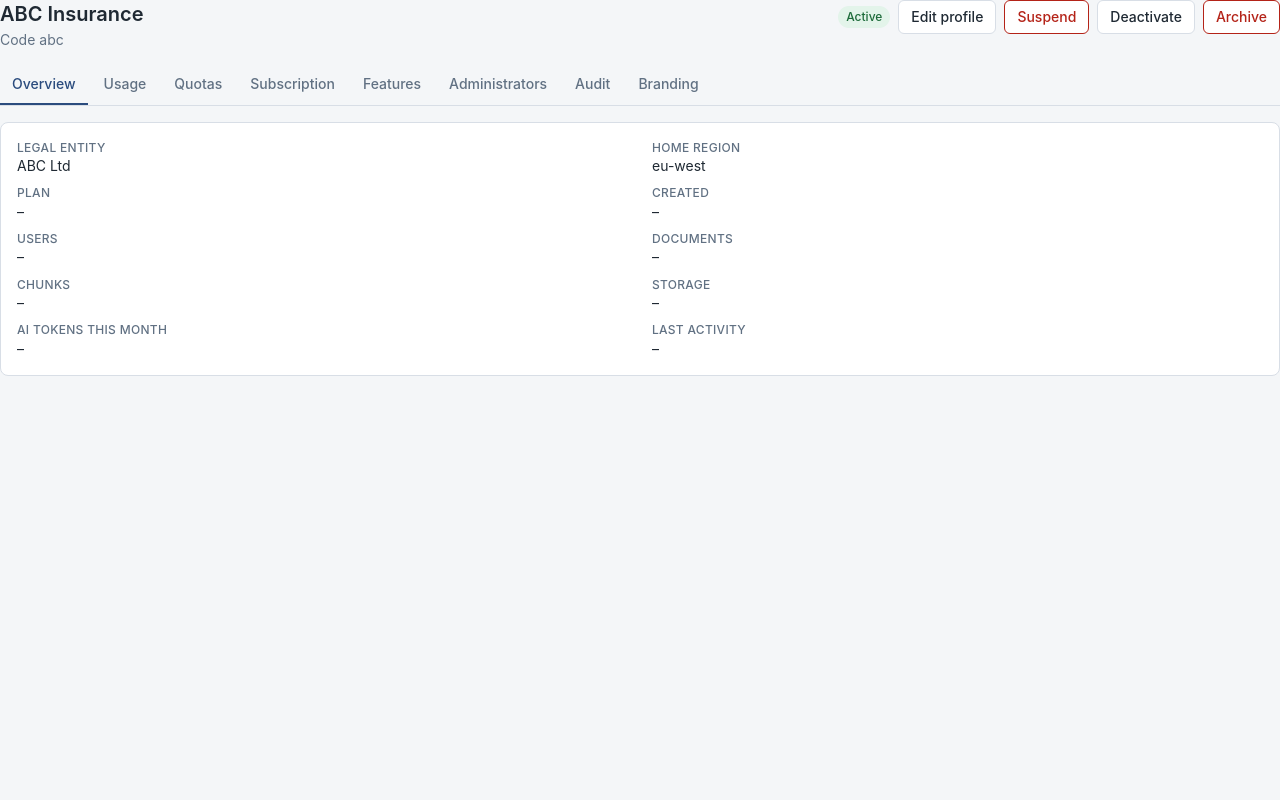
Test: platform tenant profile and usage › refuses a low-contrast accent colour and an http logo
The image size is (1280, 800).
Click the button "Edit profile" at (947, 17), box top-left (898, 0), bottom-right (996, 34)
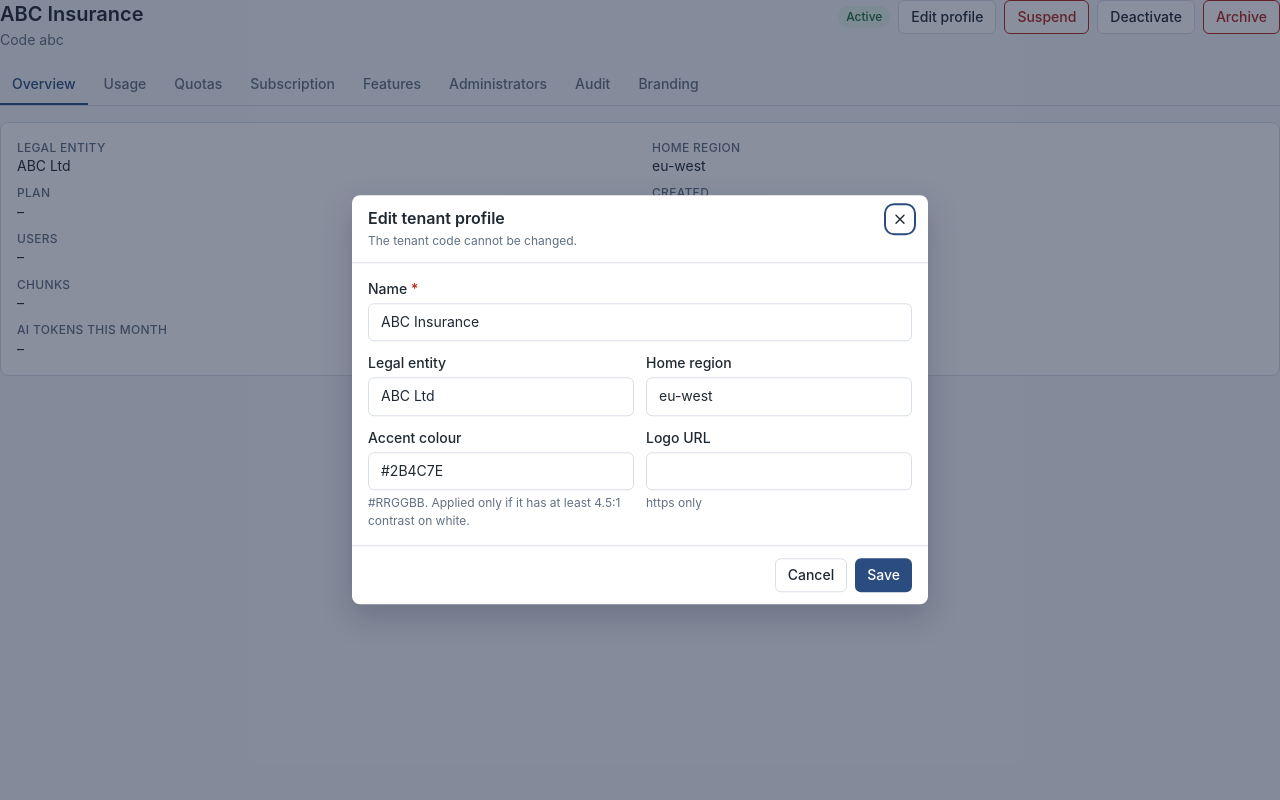
Type "#FFD54F" into the field labelled "Accent colour" at (501, 471), box top-left (368, 452), bottom-right (634, 491)
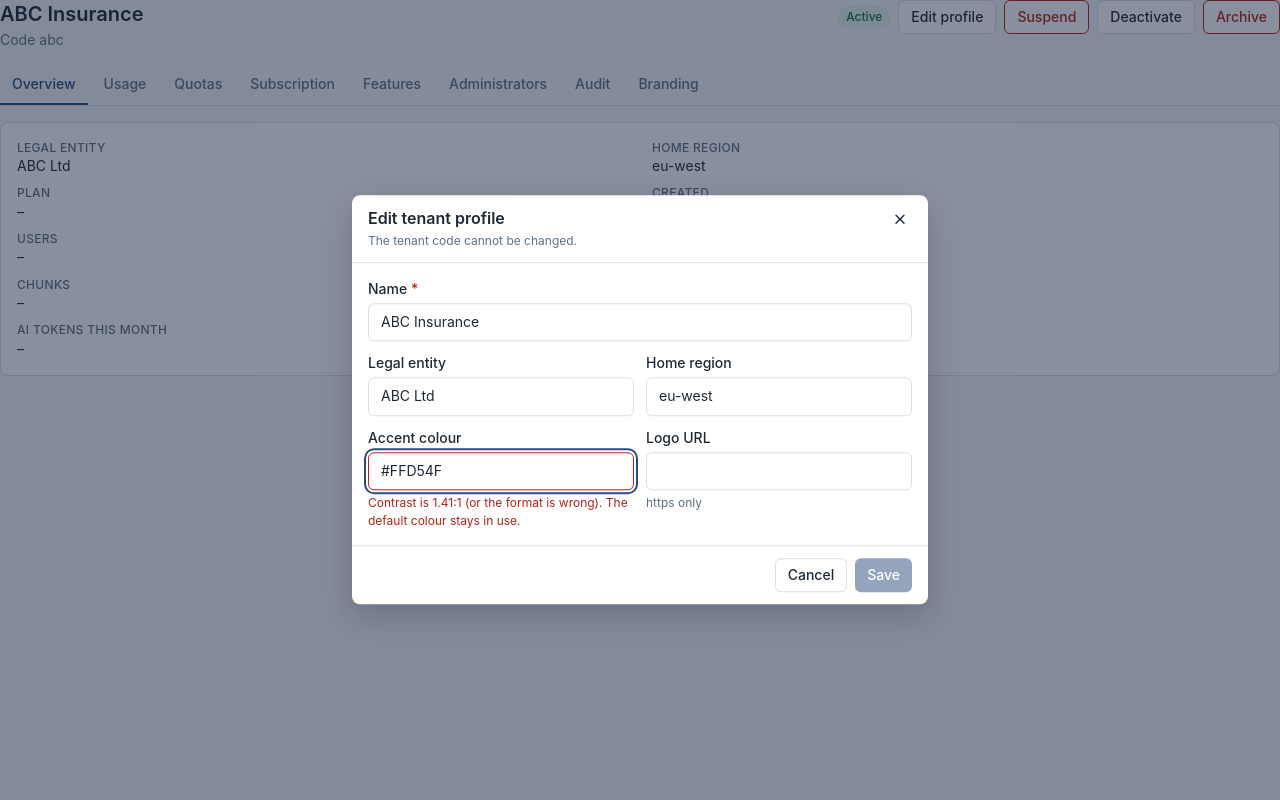
Expected: the text "Contrast is 1.41:1 (or the format is wrong). The default colour stays in use." is shown, top-left (368, 495), bottom-right (634, 529)
Type "http://x.test/logo.png" into the field labelled "Logo URL" at (779, 471), box top-left (646, 452), bottom-right (912, 491)
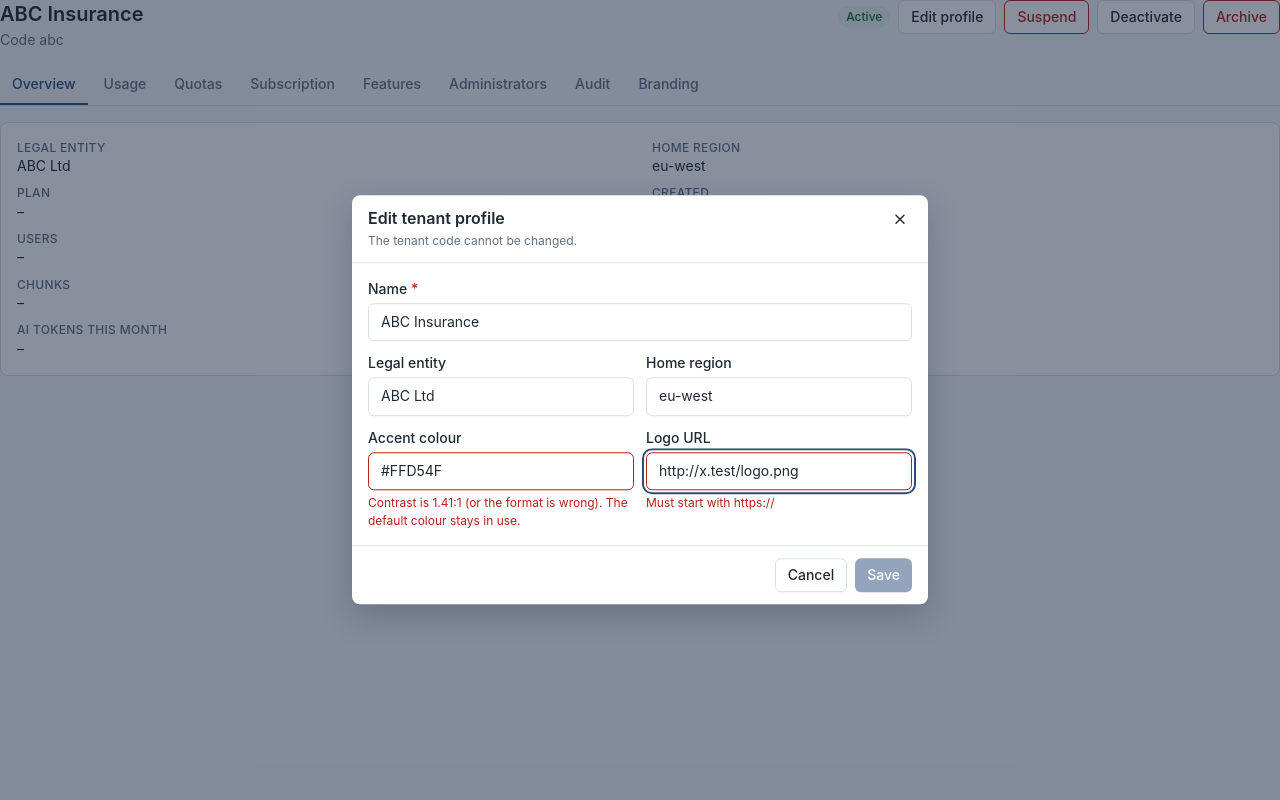
Expected: the button "Save" is disabled, top-left (855, 558), bottom-right (912, 593)
Expected: the text "Must start with https://" is shown, top-left (646, 496), bottom-right (774, 511)
